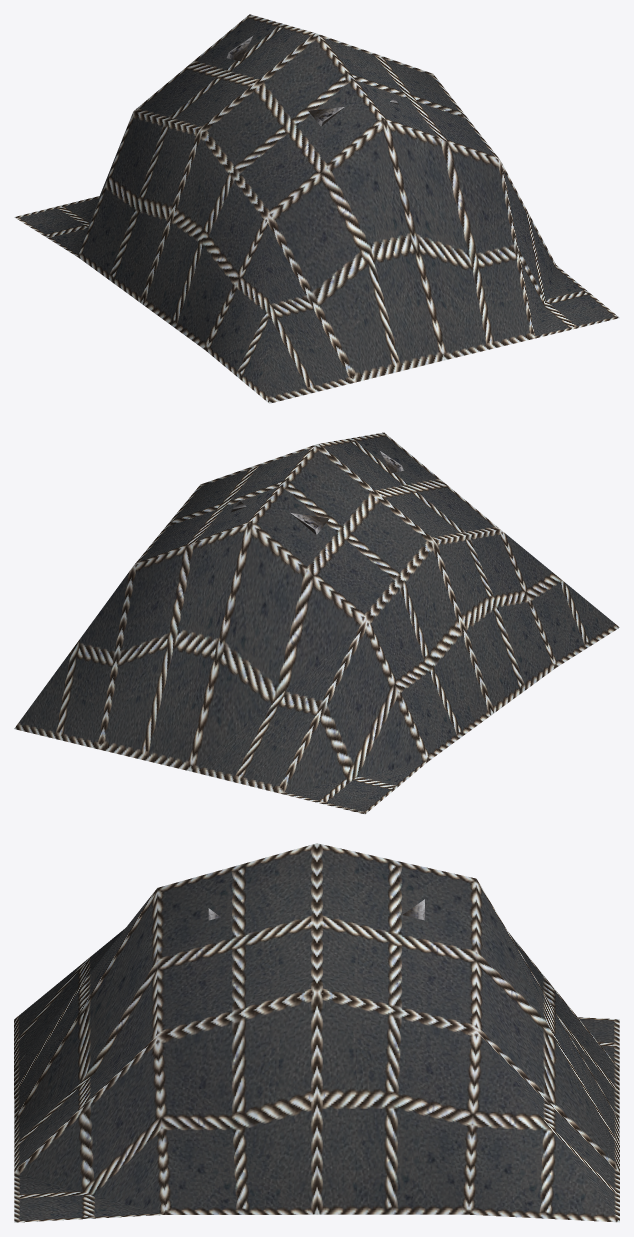
3 renders of one model, top to bottom at view 1: azimuth 30°, elevation 25°; view 2: azimuth 150°, elevation 25°; view 3: azimuth 270°, elevation 25°, orthographic. The views are drawn at different scales.
Parts seen in each view (by area): view 1: wj33; view 2: wj33; view 3: wj33.
Boxes of the visible parts, x1,y1,x2,y2 form: wj33: (14, 14, 619, 403); wj33: (14, 432, 619, 814); wj33: (14, 843, 619, 1222).
Bounding box in the file's own units: 361 × 243 × 455.
Materials: 2 (2 with a texture image).
